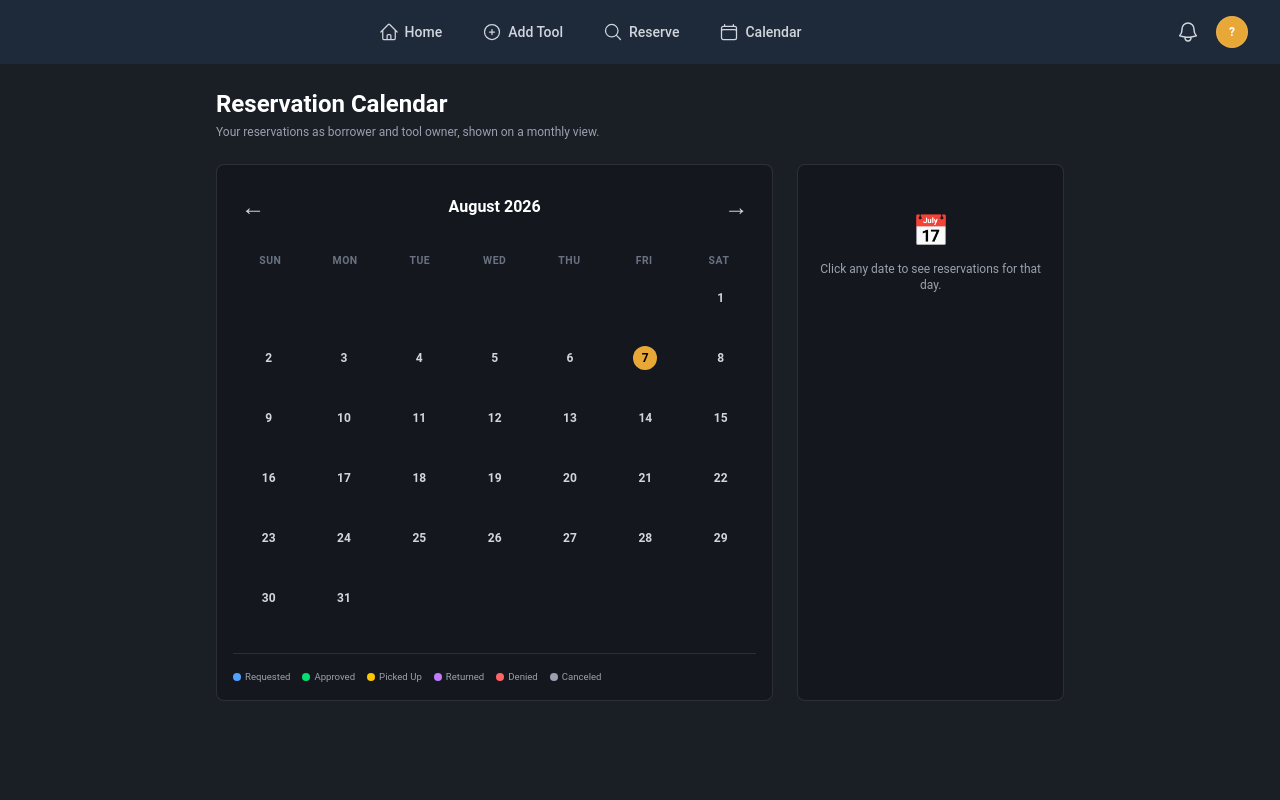
CalendarPage › shows the detail panel when a date is clicked
Expected: the button named "previous month" is shown, [233,181,273,233]
Note: Date cells are labelled like "1 July, 0 reservations".
Step 1. Click the button "1" → x=721, y=309, box [685,281,756,337]
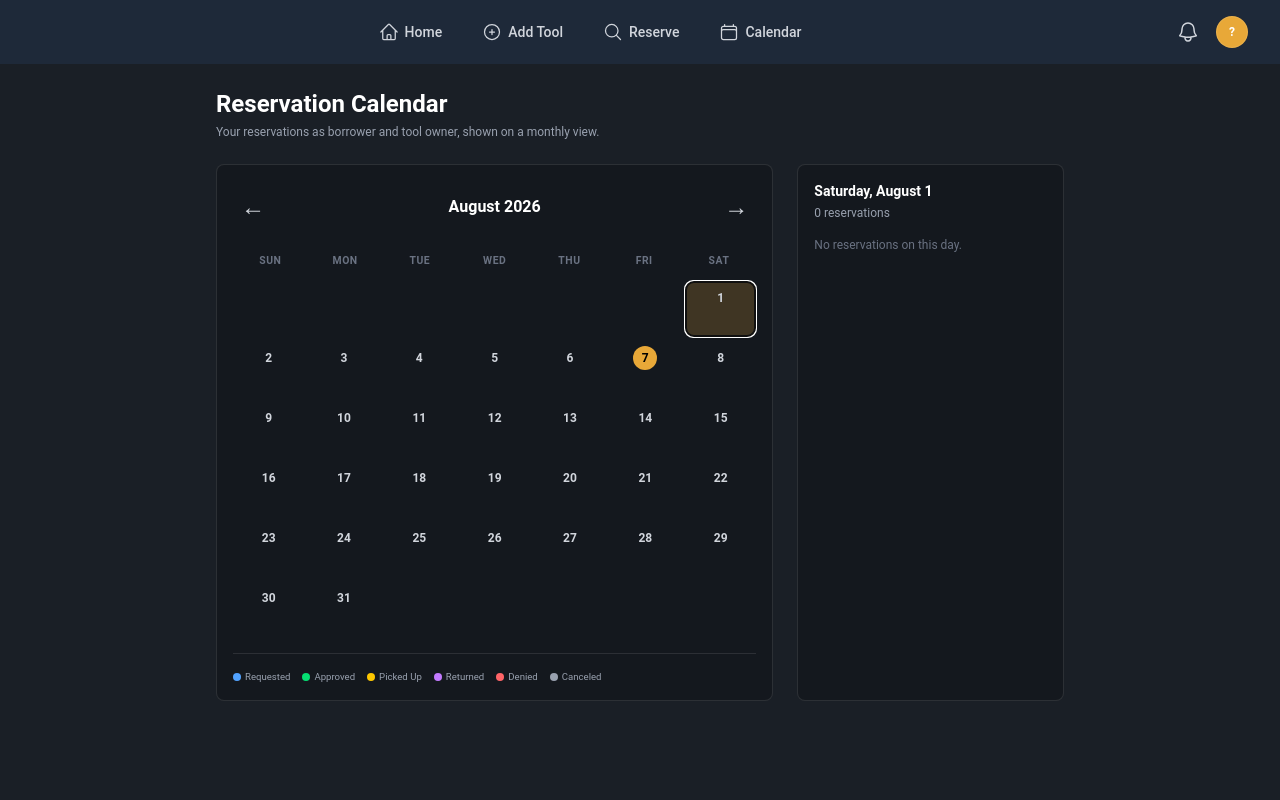
Expected: the text "No reservations on this day." is shown, [814,238,962,252]
